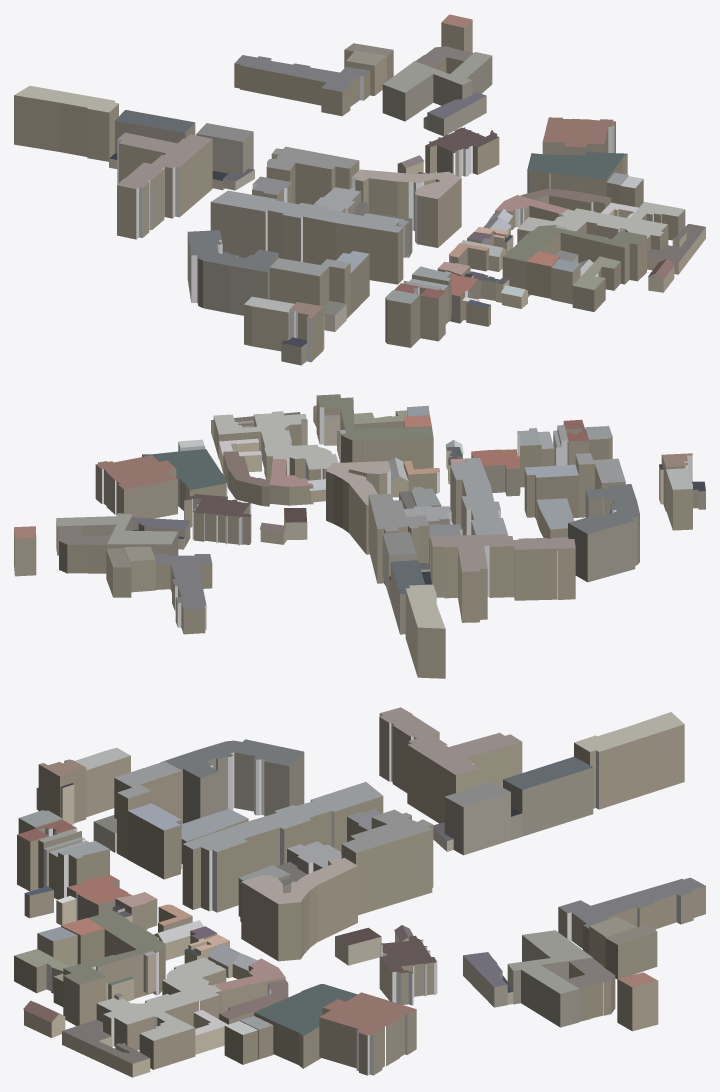
The picture shows the model from 3 angles, top to bottom: view 1: azimuth 30°, elevation 25°; view 2: azimuth 150°, elevation 25°; view 3: azimuth 270°, elevation 25°; orthographic projection. The views are drawn at different scales.
Parts seen in each view (by area): view 1: tuile; view 2: tuile; view 3: tuile.
Boxes of the visible parts, x1=… form: tuile: x1=14, y1=14, x2=705, y2=365; tuile: x1=14, y1=394, x2=705, y2=678; tuile: x1=14, y1=707, x2=705, y2=1077.
Size of the model in its own units: 271 by 46.74 by 287.
